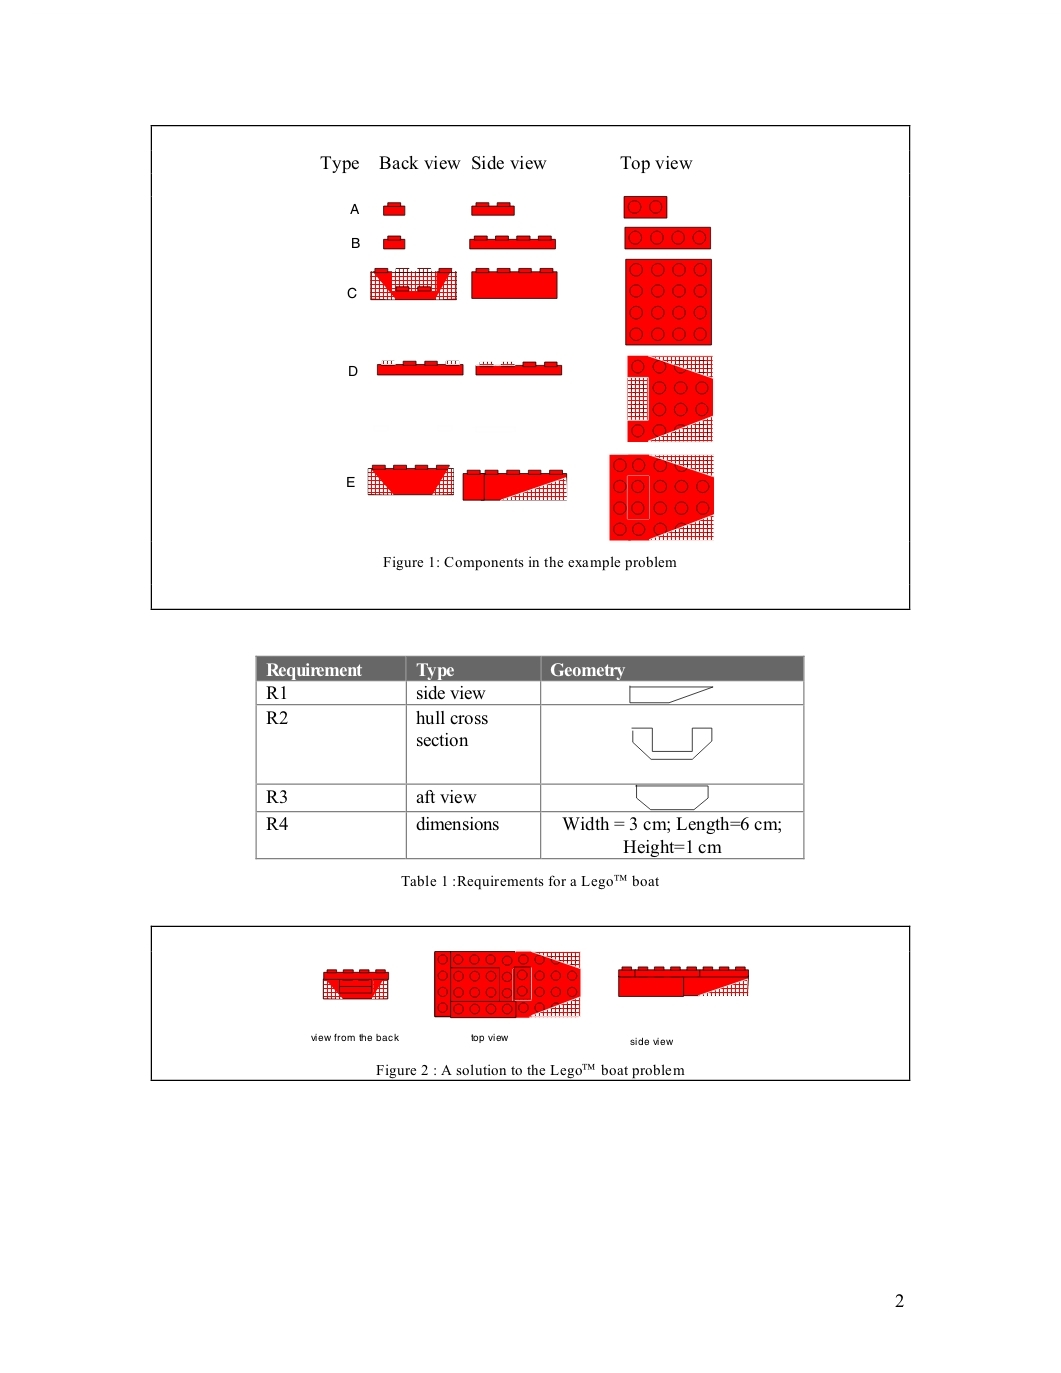Table: (255, 654, 804, 860)
figure: (320, 155, 713, 541), (311, 951, 748, 1045)
